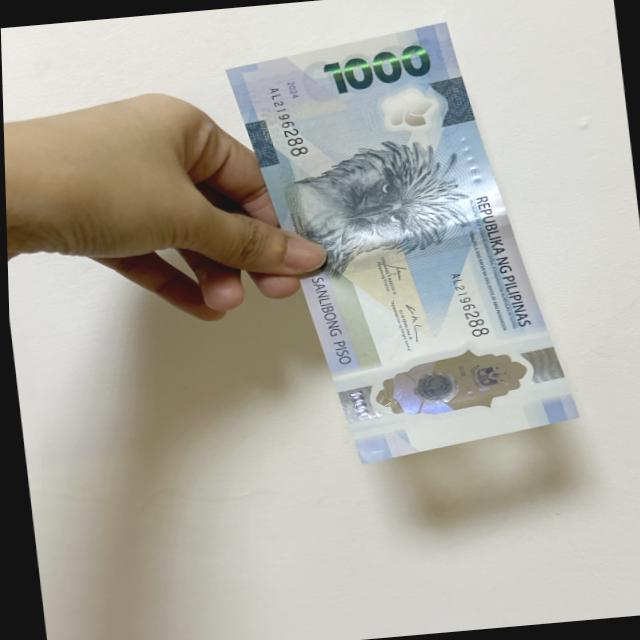clear_window: (371, 345, 525, 422)
eagle: (274, 138, 482, 266)
sampaguita: (378, 85, 438, 134)
